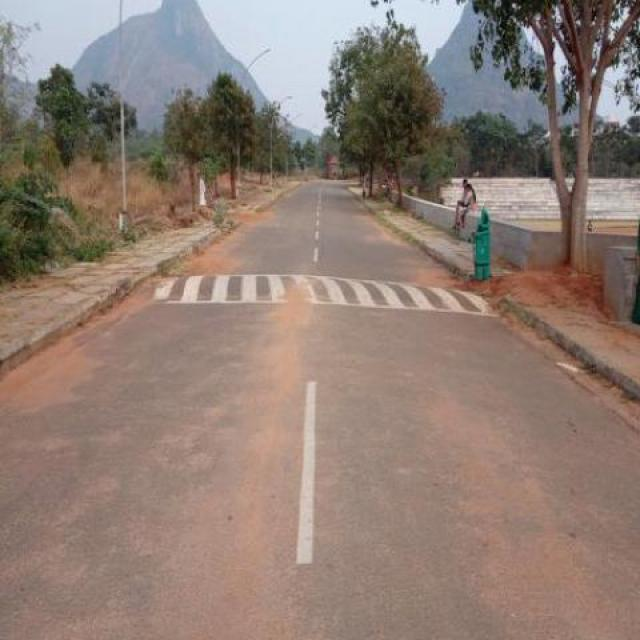Speed Bump: (139, 268, 494, 318)
